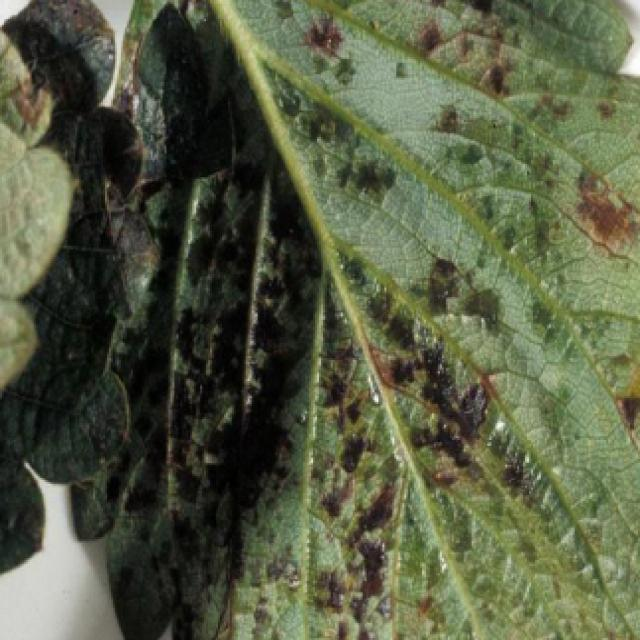Angular Leafspot: (67, 0, 640, 640), (0, 25, 55, 163)
